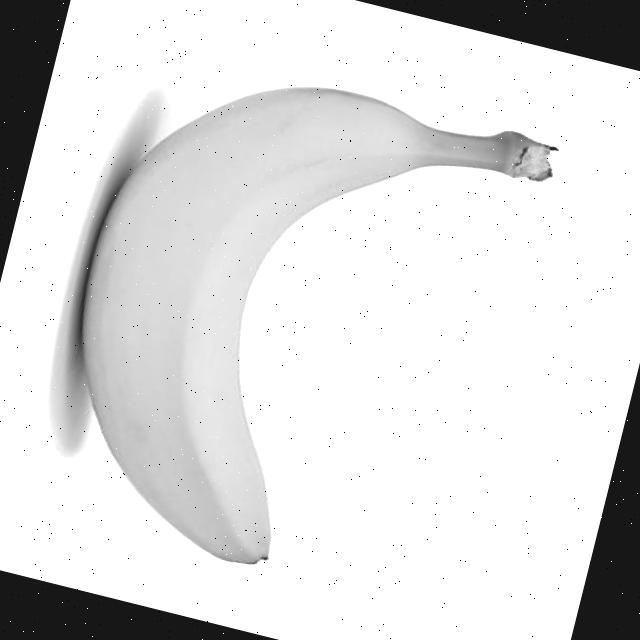banana: (27, 38, 524, 607)
